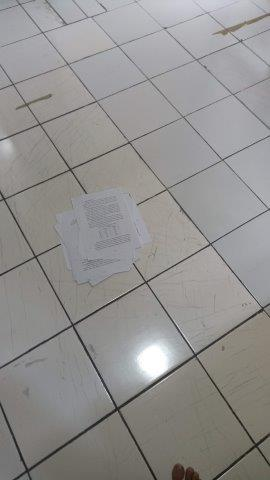kertas: (52, 186, 149, 289)
